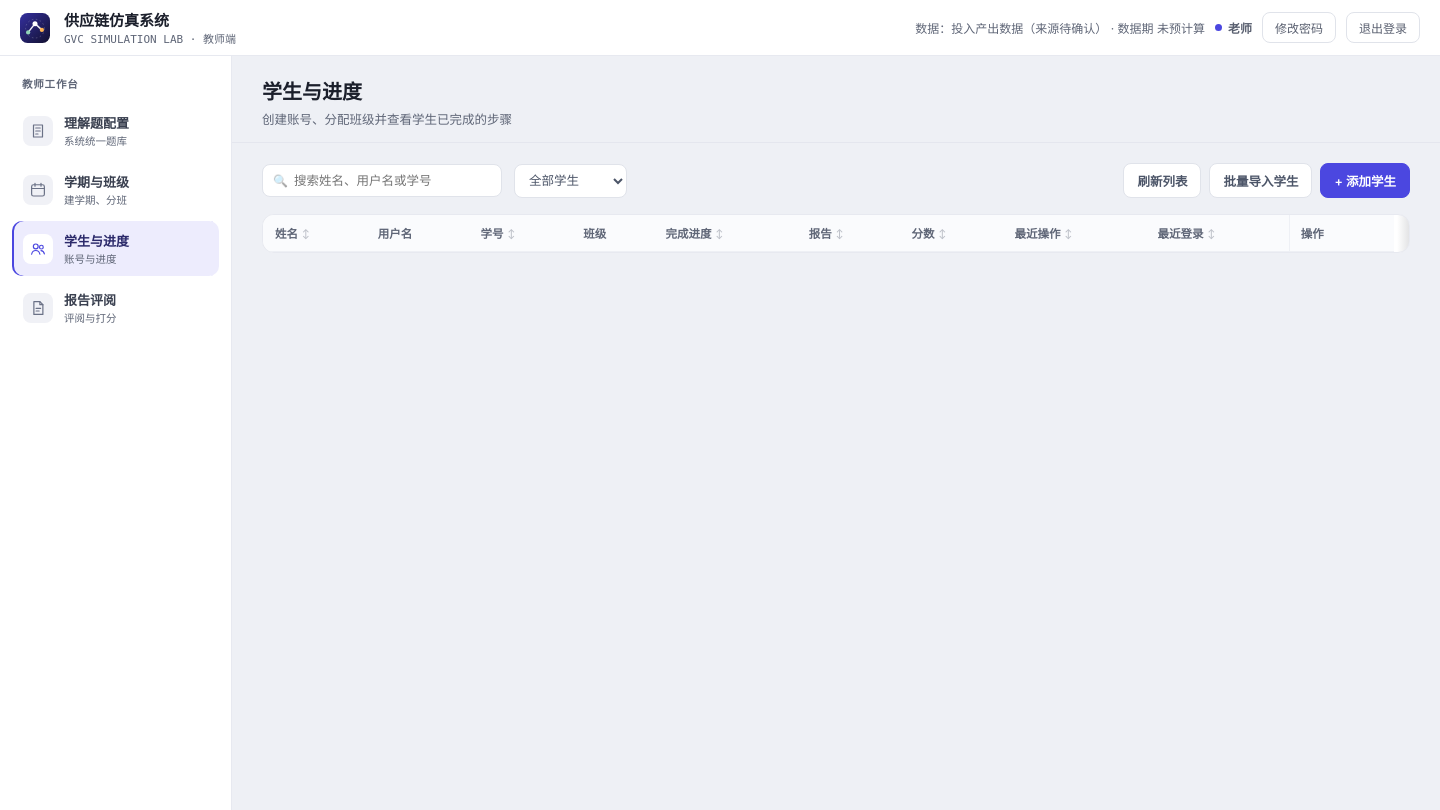
Scenario: teacher review flow › outdated records are secondary context in the list and review, not a grading lock
This screenshot has width=1440, height=810.
Click the button "报告评阅 评阅与打分": (116, 308) x1=12 y1=280 x2=219 y2=335
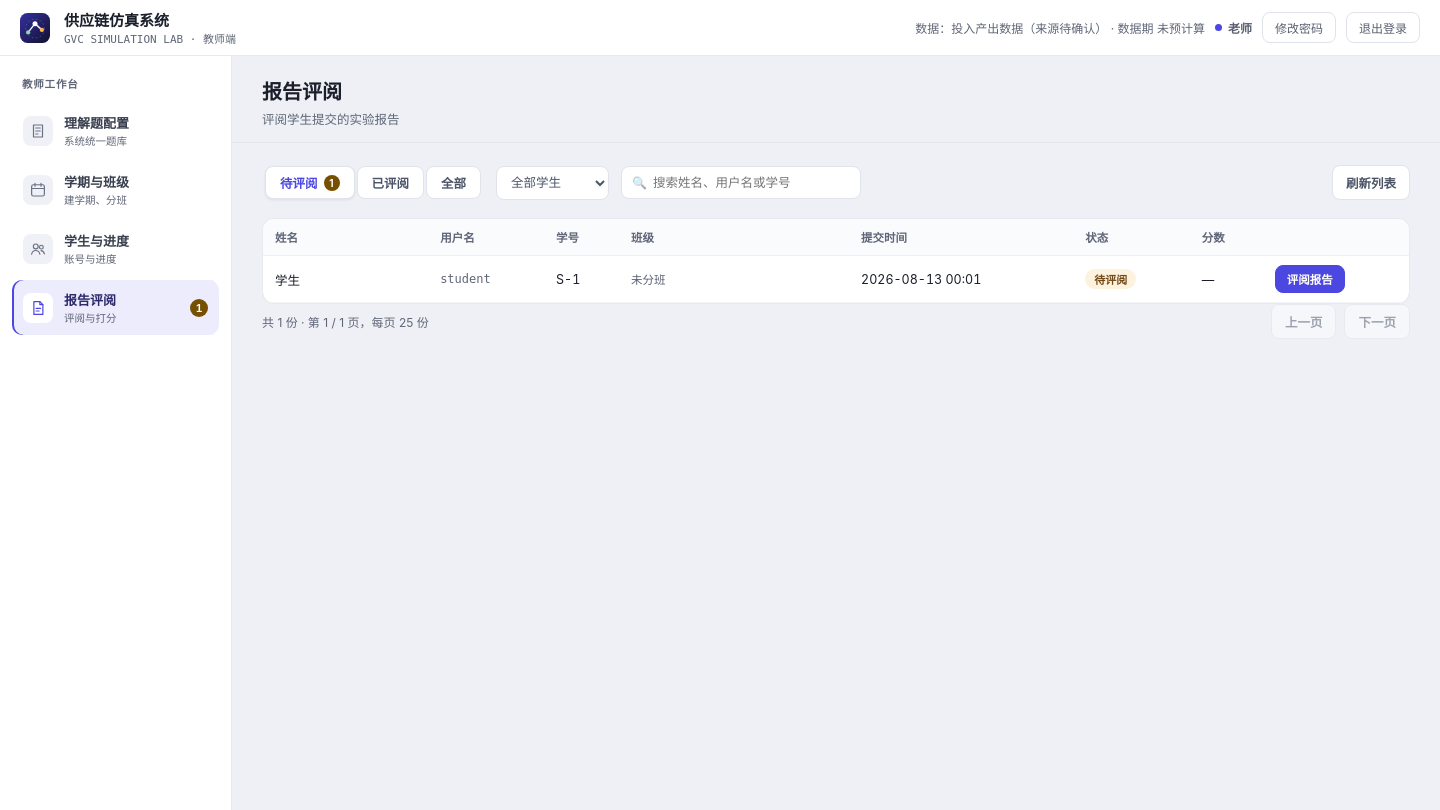
Expected: the text "学生之后改过记录，未重新提交" is not shown
Result: the button with aria-label "评阅报告：学生" is shown at x1=1275 y1=265 x2=1345 y2=293
Click the button "刷新列表": (1371, 182) x1=1332 y1=165 x2=1410 y2=200
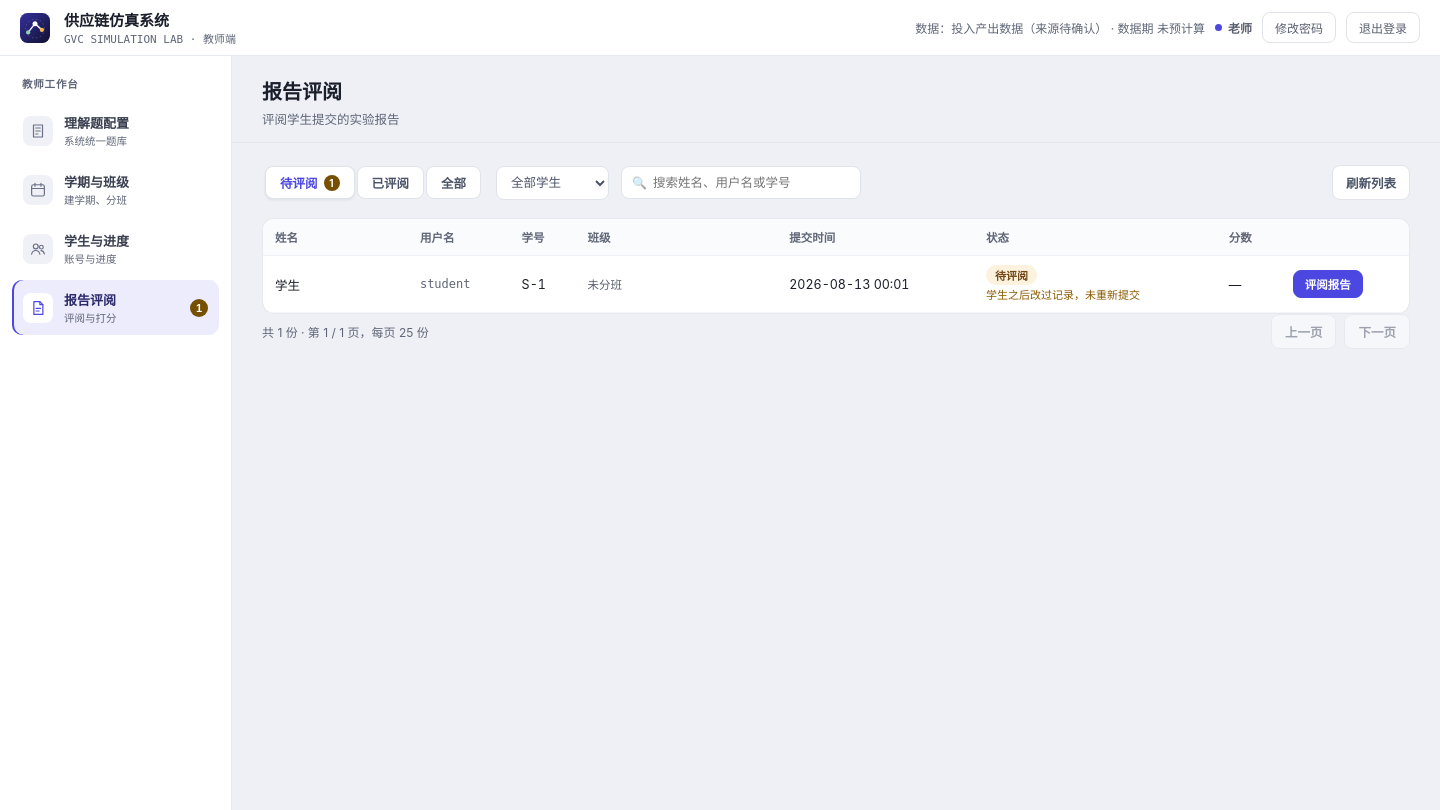
Click the button with aria-label "评阅报告：学生": (1328, 284) x1=1293 y1=270 x2=1363 y2=298
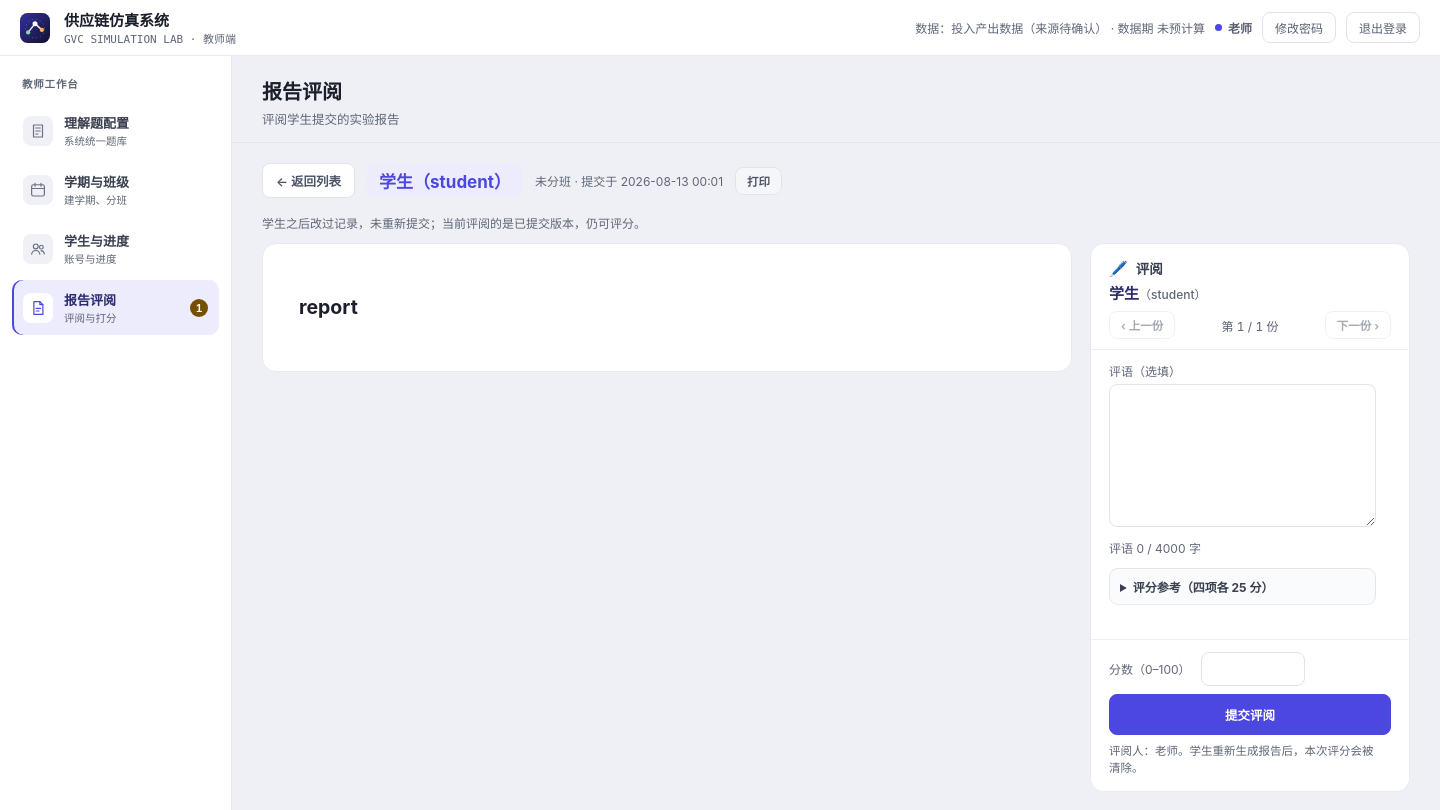
In the number field: (1253, 669) x1=1201 y1=652 x2=1305 y2=686, type "88"
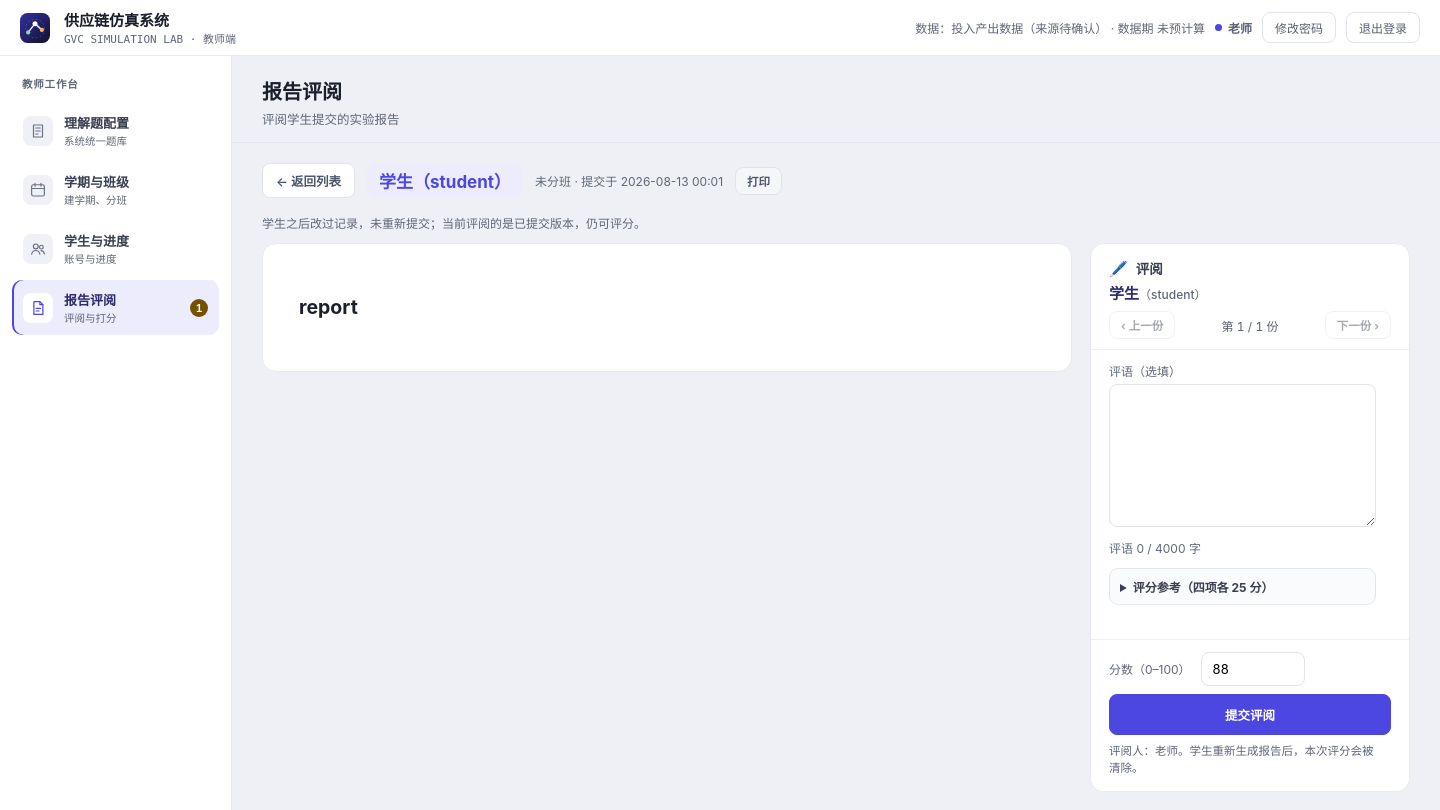
Click the button "提交评阅": (1250, 714) x1=1109 y1=694 x2=1391 y2=735
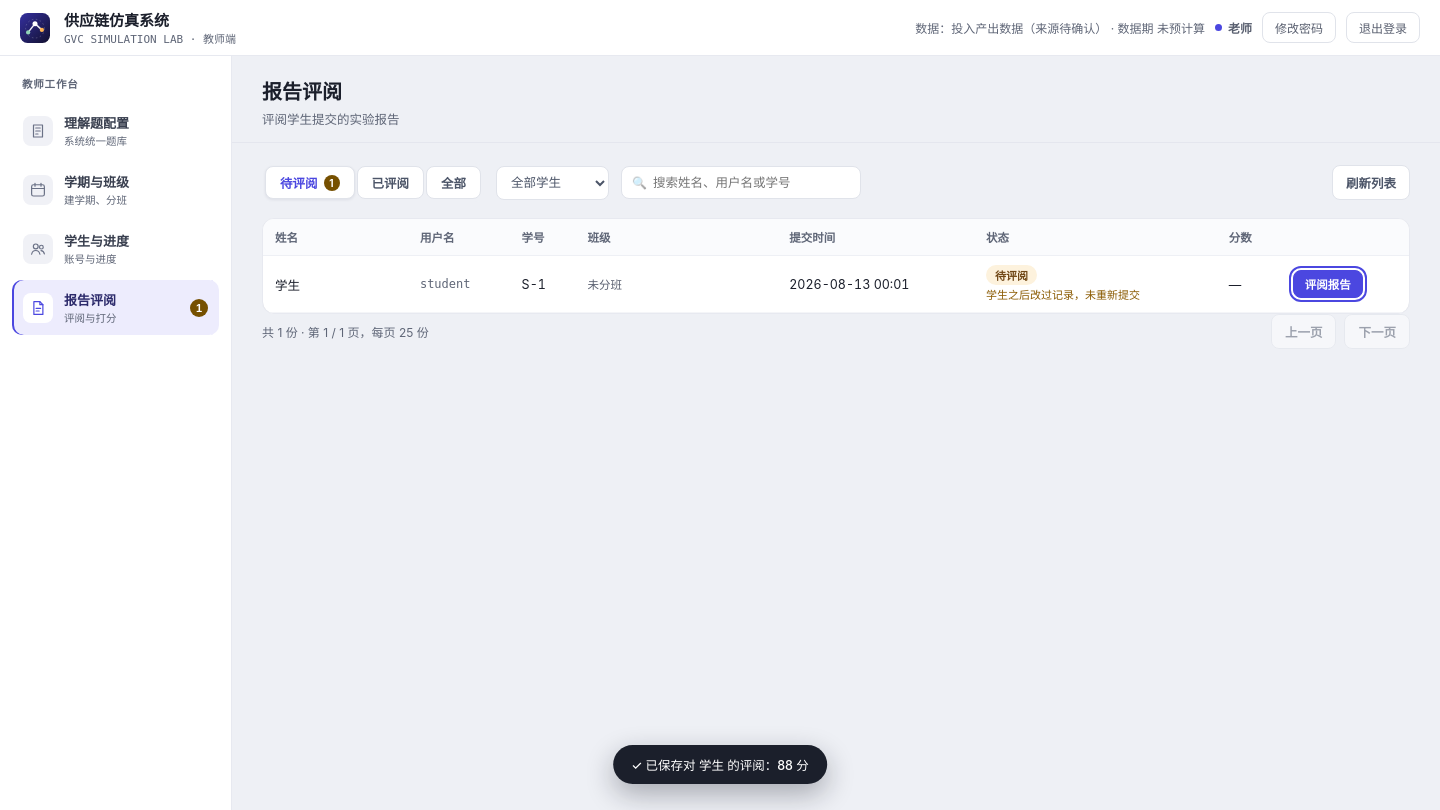
Result: the button with aria-label "评阅报告：学生" is shown at x1=1293 y1=270 x2=1363 y2=298
Click the button "刷新列表": (1371, 182) x1=1332 y1=165 x2=1410 y2=200
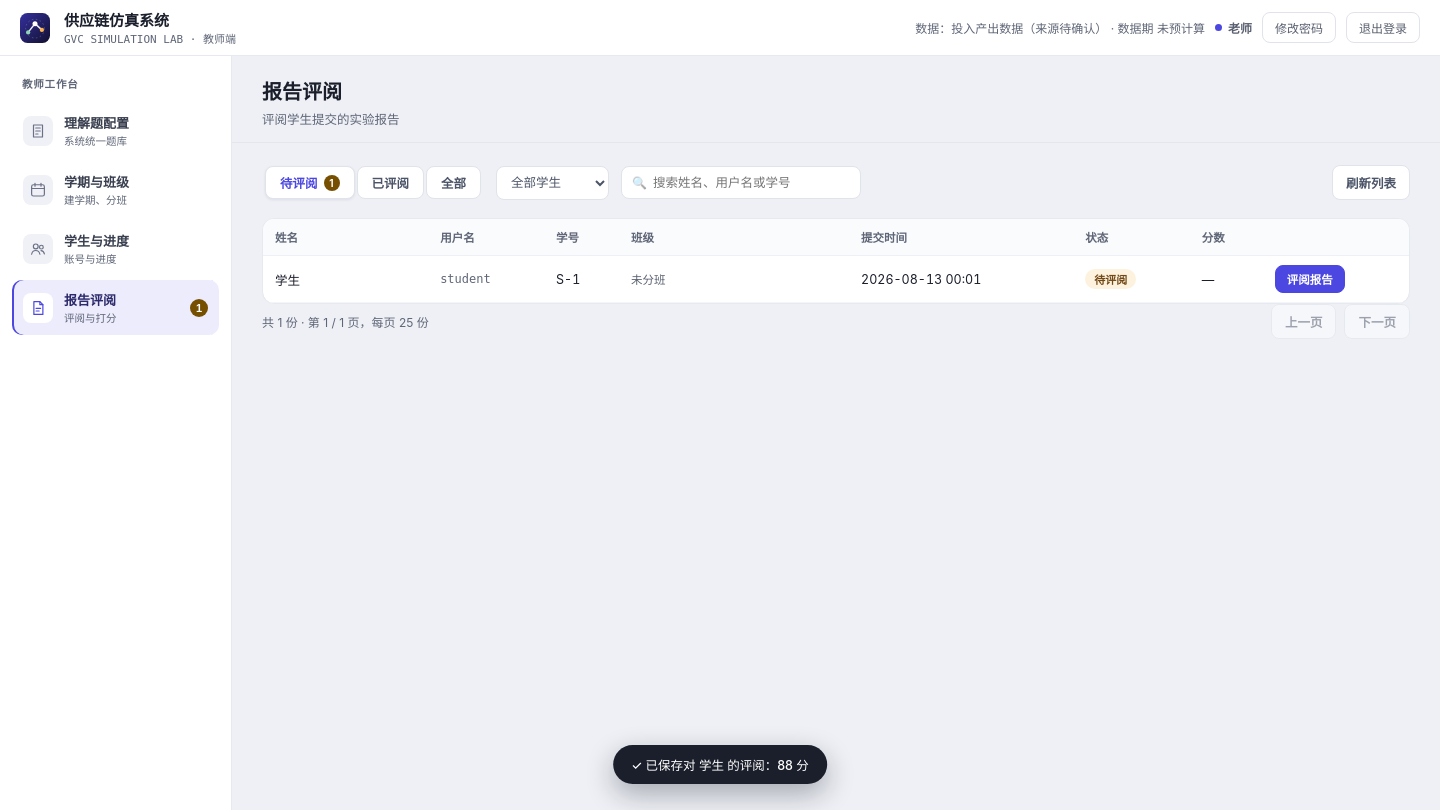
Result: the text "学生之后改过记录，未重新提交" is not shown
